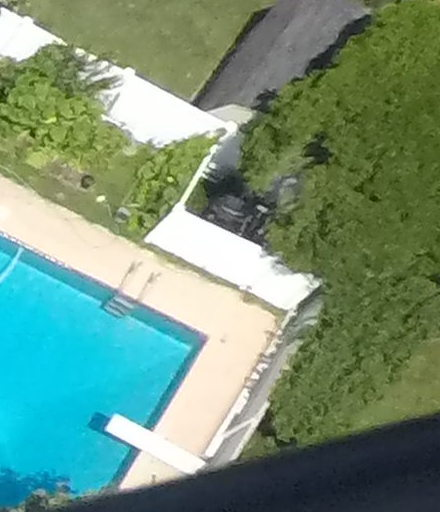pool: (2, 226, 199, 477)
